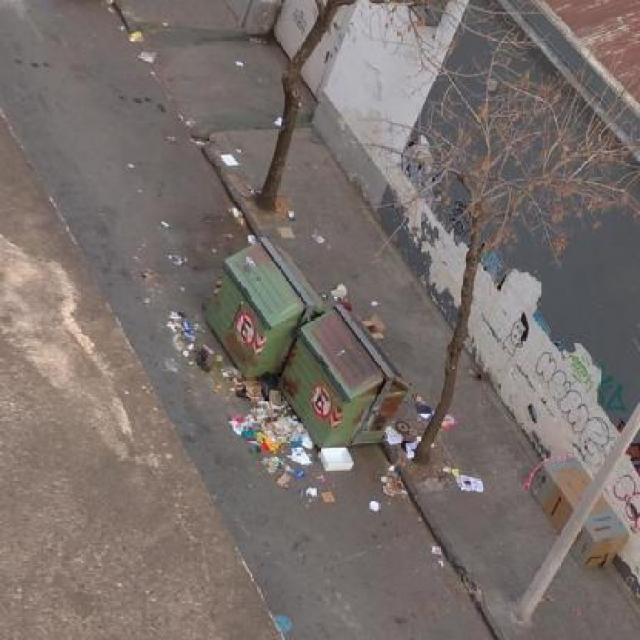garbage: (533, 443, 633, 572), (231, 377, 300, 496), (165, 300, 222, 388), (300, 448, 352, 514), (442, 455, 503, 507), (363, 309, 396, 346)
